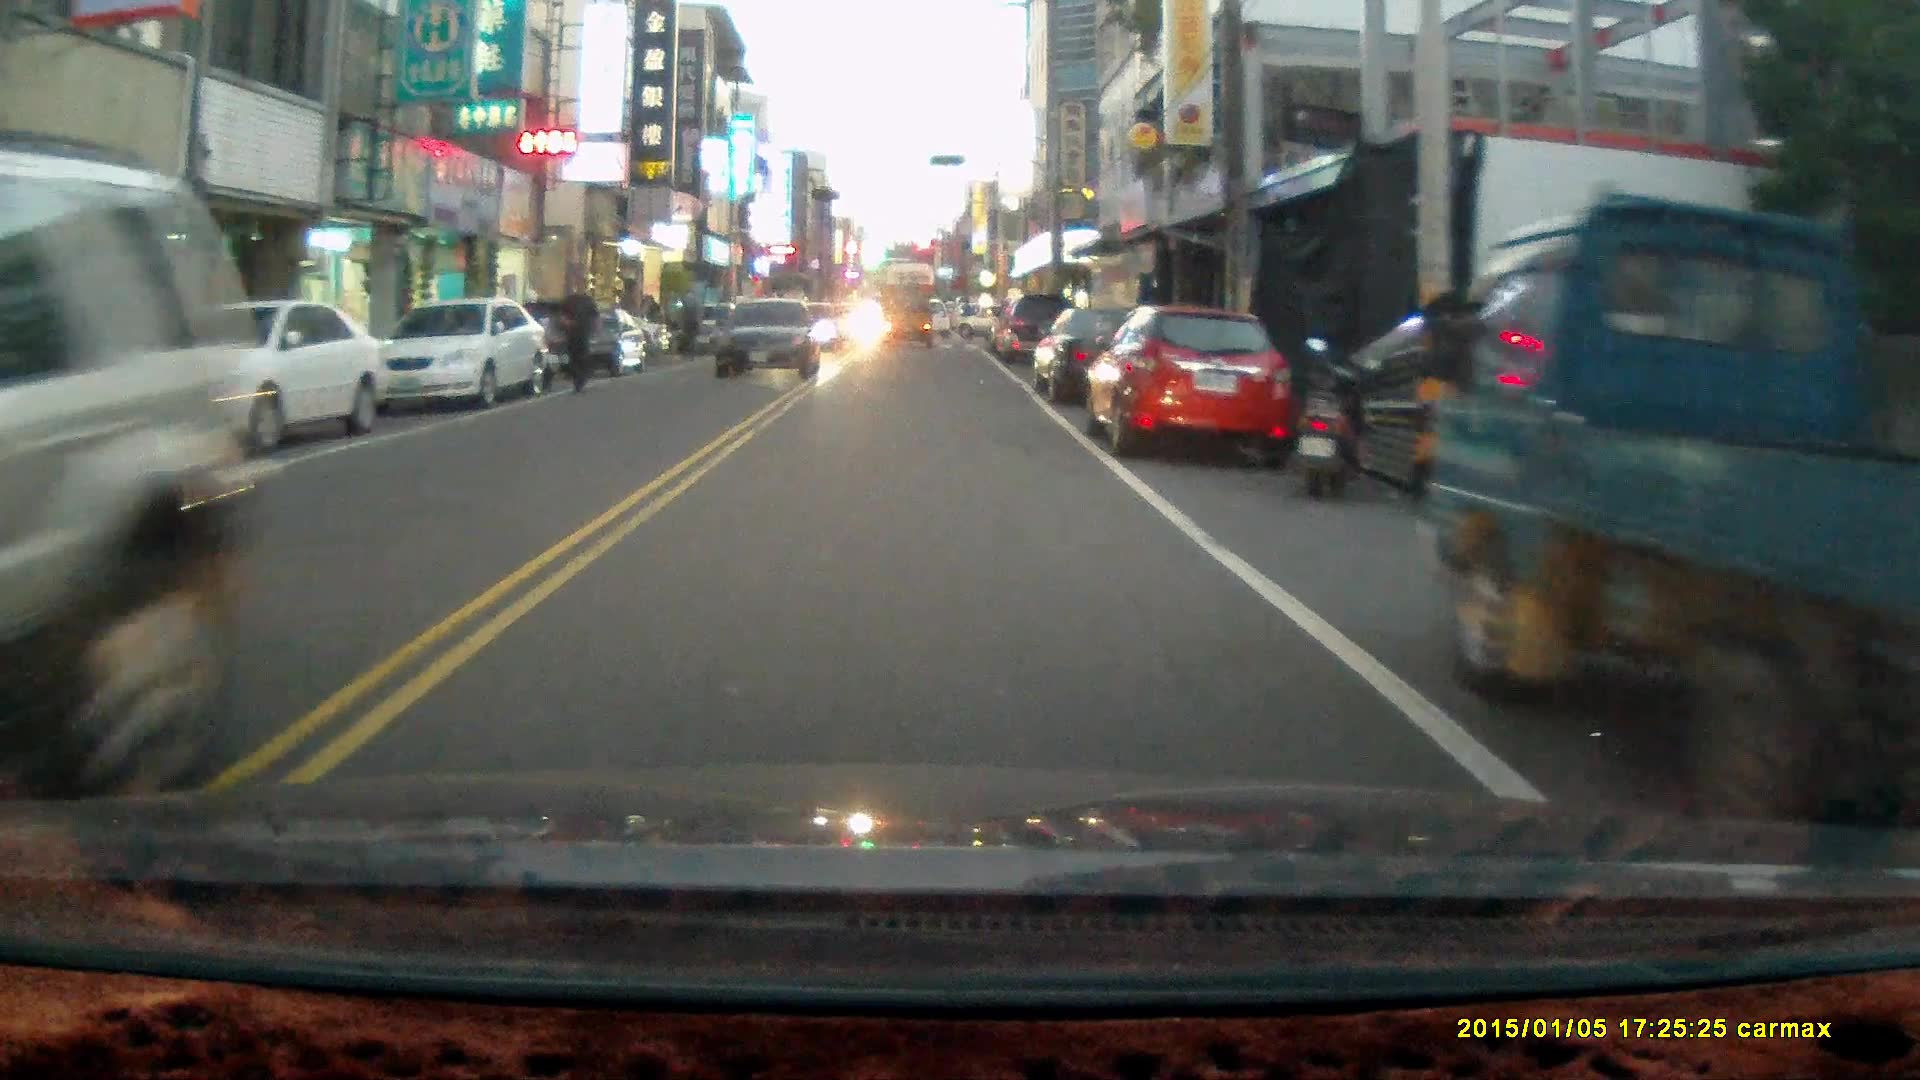pedestrian: (556, 272, 599, 396), (675, 290, 700, 356)
vehicle: (1423, 198, 1920, 830), (1086, 304, 1294, 466), (373, 293, 547, 409), (1030, 295, 1199, 405), (715, 293, 823, 380), (992, 289, 1086, 368), (554, 305, 643, 378), (875, 283, 936, 350)
